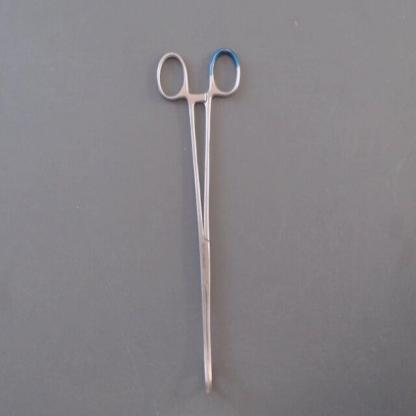Sponge Forceps: (148, 43, 247, 401)
